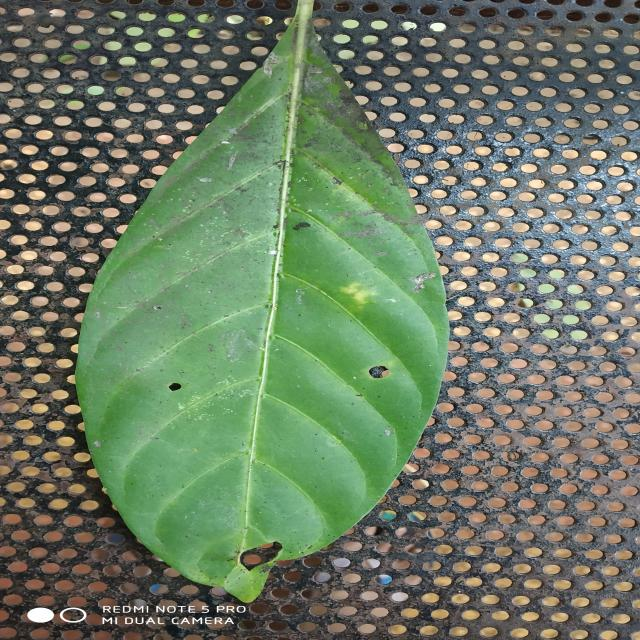anthracnosenooni: (78, 0, 449, 604)
